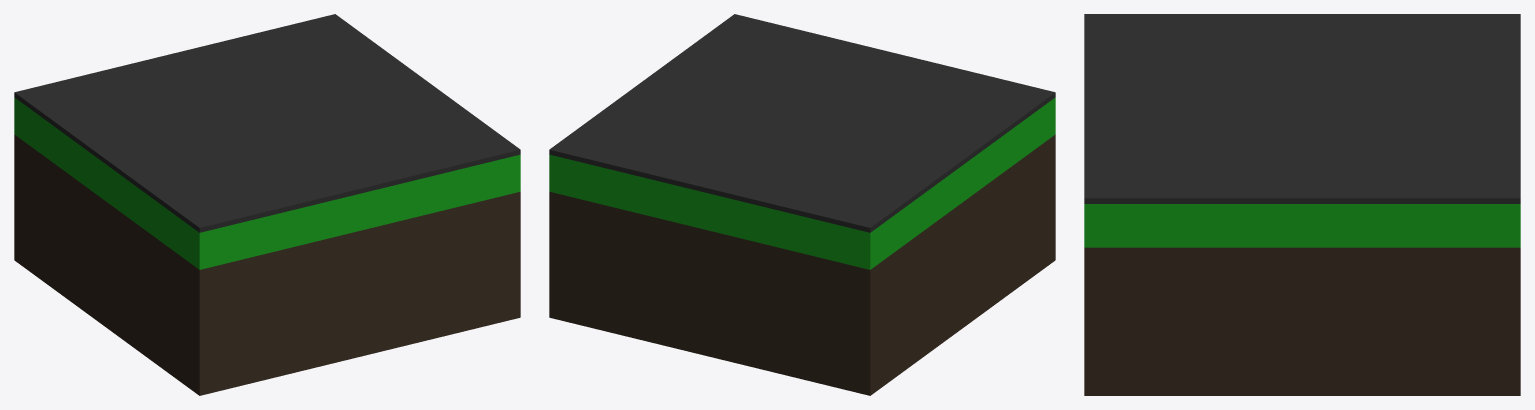
The model's file is block_road.fbx.
3 renders of one model, left to right at view 1: azimuth 30°, elevation 25°; view 2: azimuth 150°, elevation 25°; view 3: azimuth 270°, elevation 25°, orthographic. The views are drawn at different scales.
Visible parts, largest first — view 1: Block Road; view 2: Block Road; view 3: Block Road.
Part boxes in pixels (bbox=[...]): Block Road: bbox=[14, 14, 520, 395]; Block Road: bbox=[549, 14, 1055, 395]; Block Road: bbox=[1084, 14, 1520, 395].
Size of the model in its own units: 1000 by 500 by 1000.
